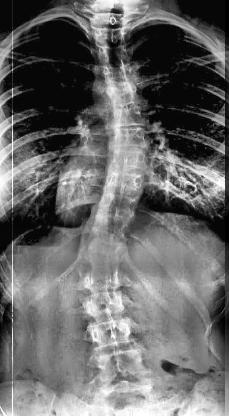Vertebrae: (85, 318, 141, 348), (79, 290, 131, 318), (92, 195, 144, 219), (79, 264, 125, 288), (103, 102, 147, 126), (102, 172, 145, 196), (104, 150, 148, 172), (107, 127, 151, 149), (82, 243, 126, 263), (86, 220, 130, 240), (98, 80, 142, 100), (97, 60, 141, 78), (92, 44, 137, 60), (93, 27, 131, 43), (90, 12, 128, 28)
